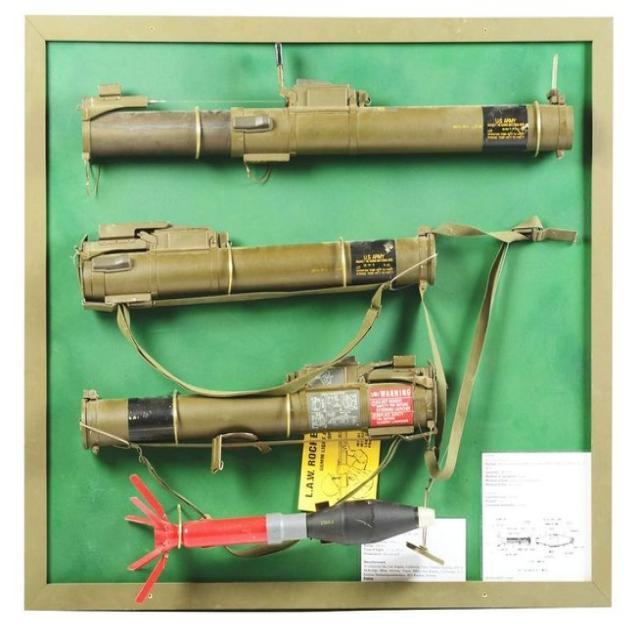bazooka: (78, 43, 583, 468)
